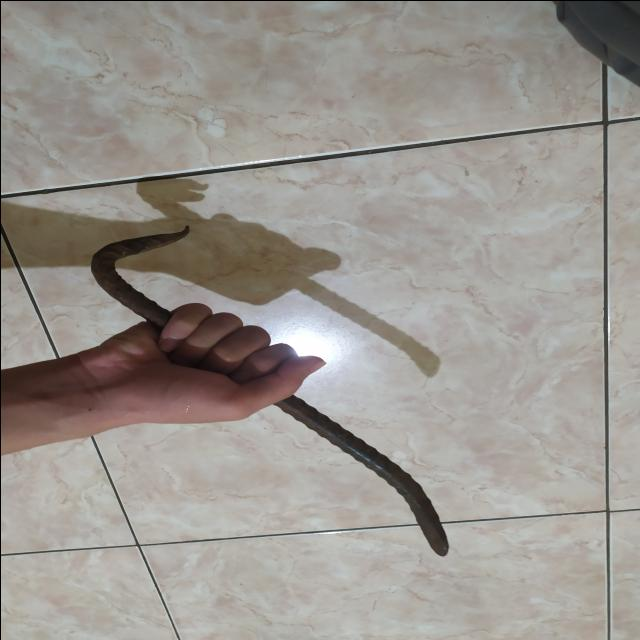Linggis: (91, 224, 452, 558)
